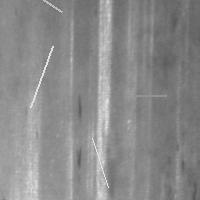scratches: (93, 1, 115, 199), (120, 35, 145, 173), (26, 41, 58, 112), (22, 97, 42, 199), (87, 133, 113, 192), (11, 0, 67, 17), (128, 90, 171, 101), (71, 95, 85, 121), (72, 144, 84, 172)
